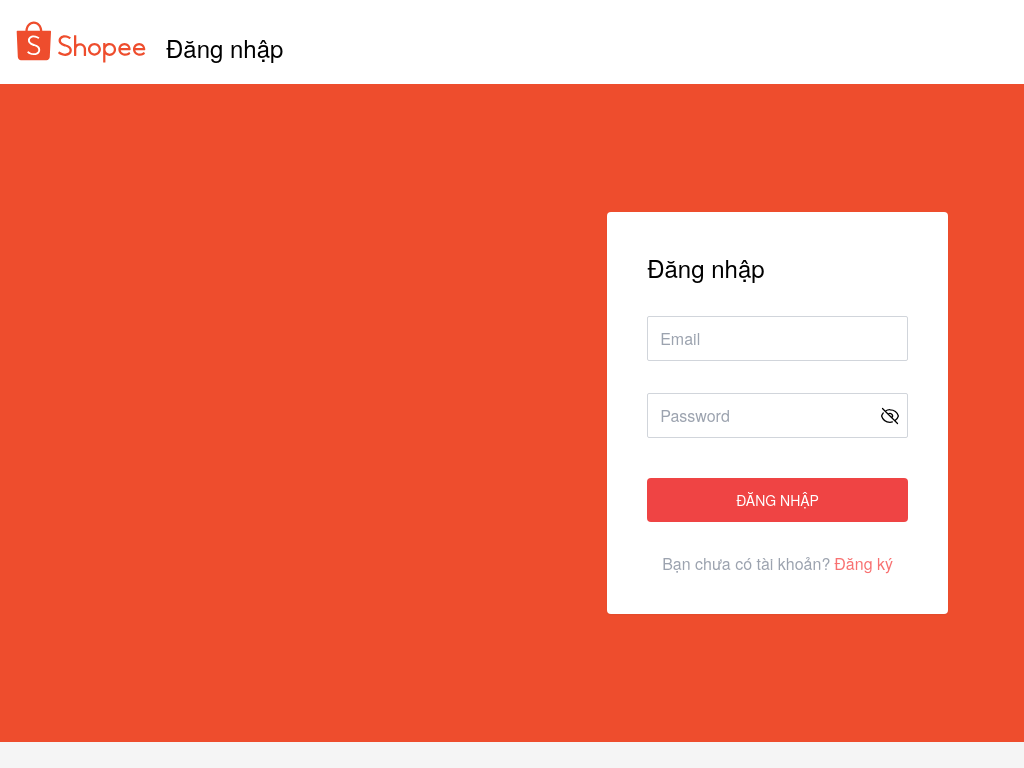
Test: Test Login page › Display required error when user did not fill out the form
The width and height of the screenshot is (1024, 768).
Click the submit button: click(778, 500) [647,478,908,522]
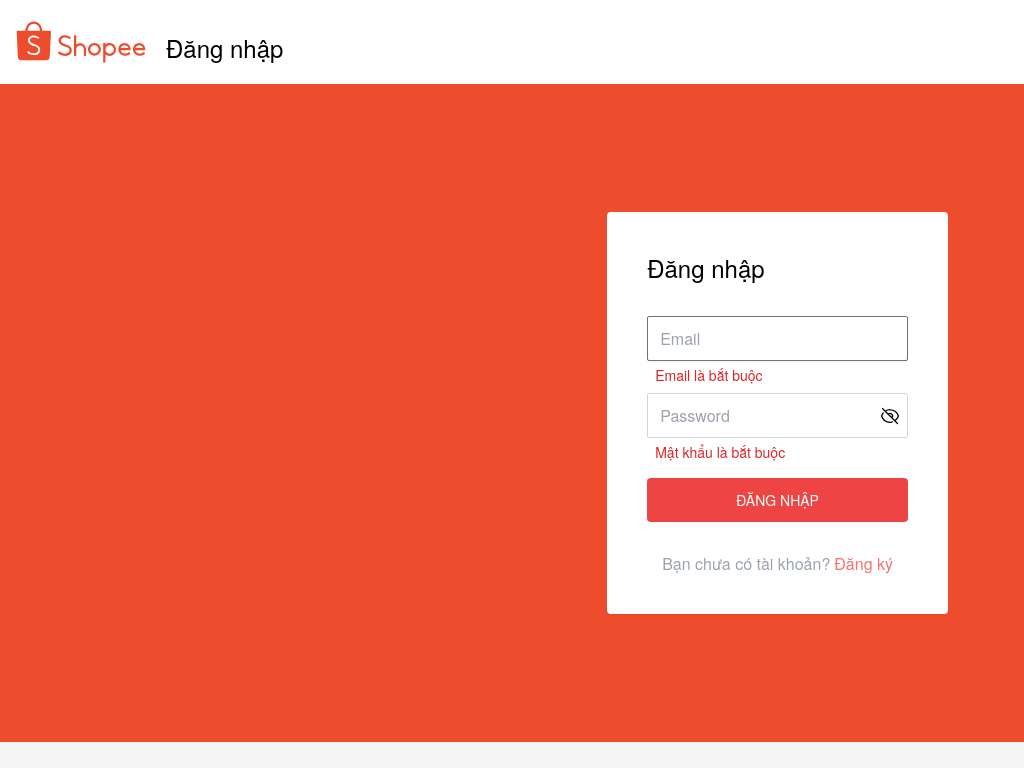
Result: the text "Email là bắt buộc" is shown at [655,365,763,385]
Result: the text "Mật khẩu là bắt buộc" is shown at [655,442,785,462]
